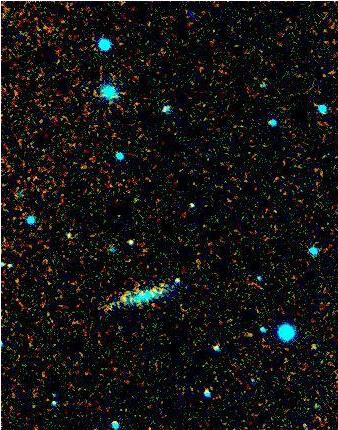star: (108, 285, 138, 315)
